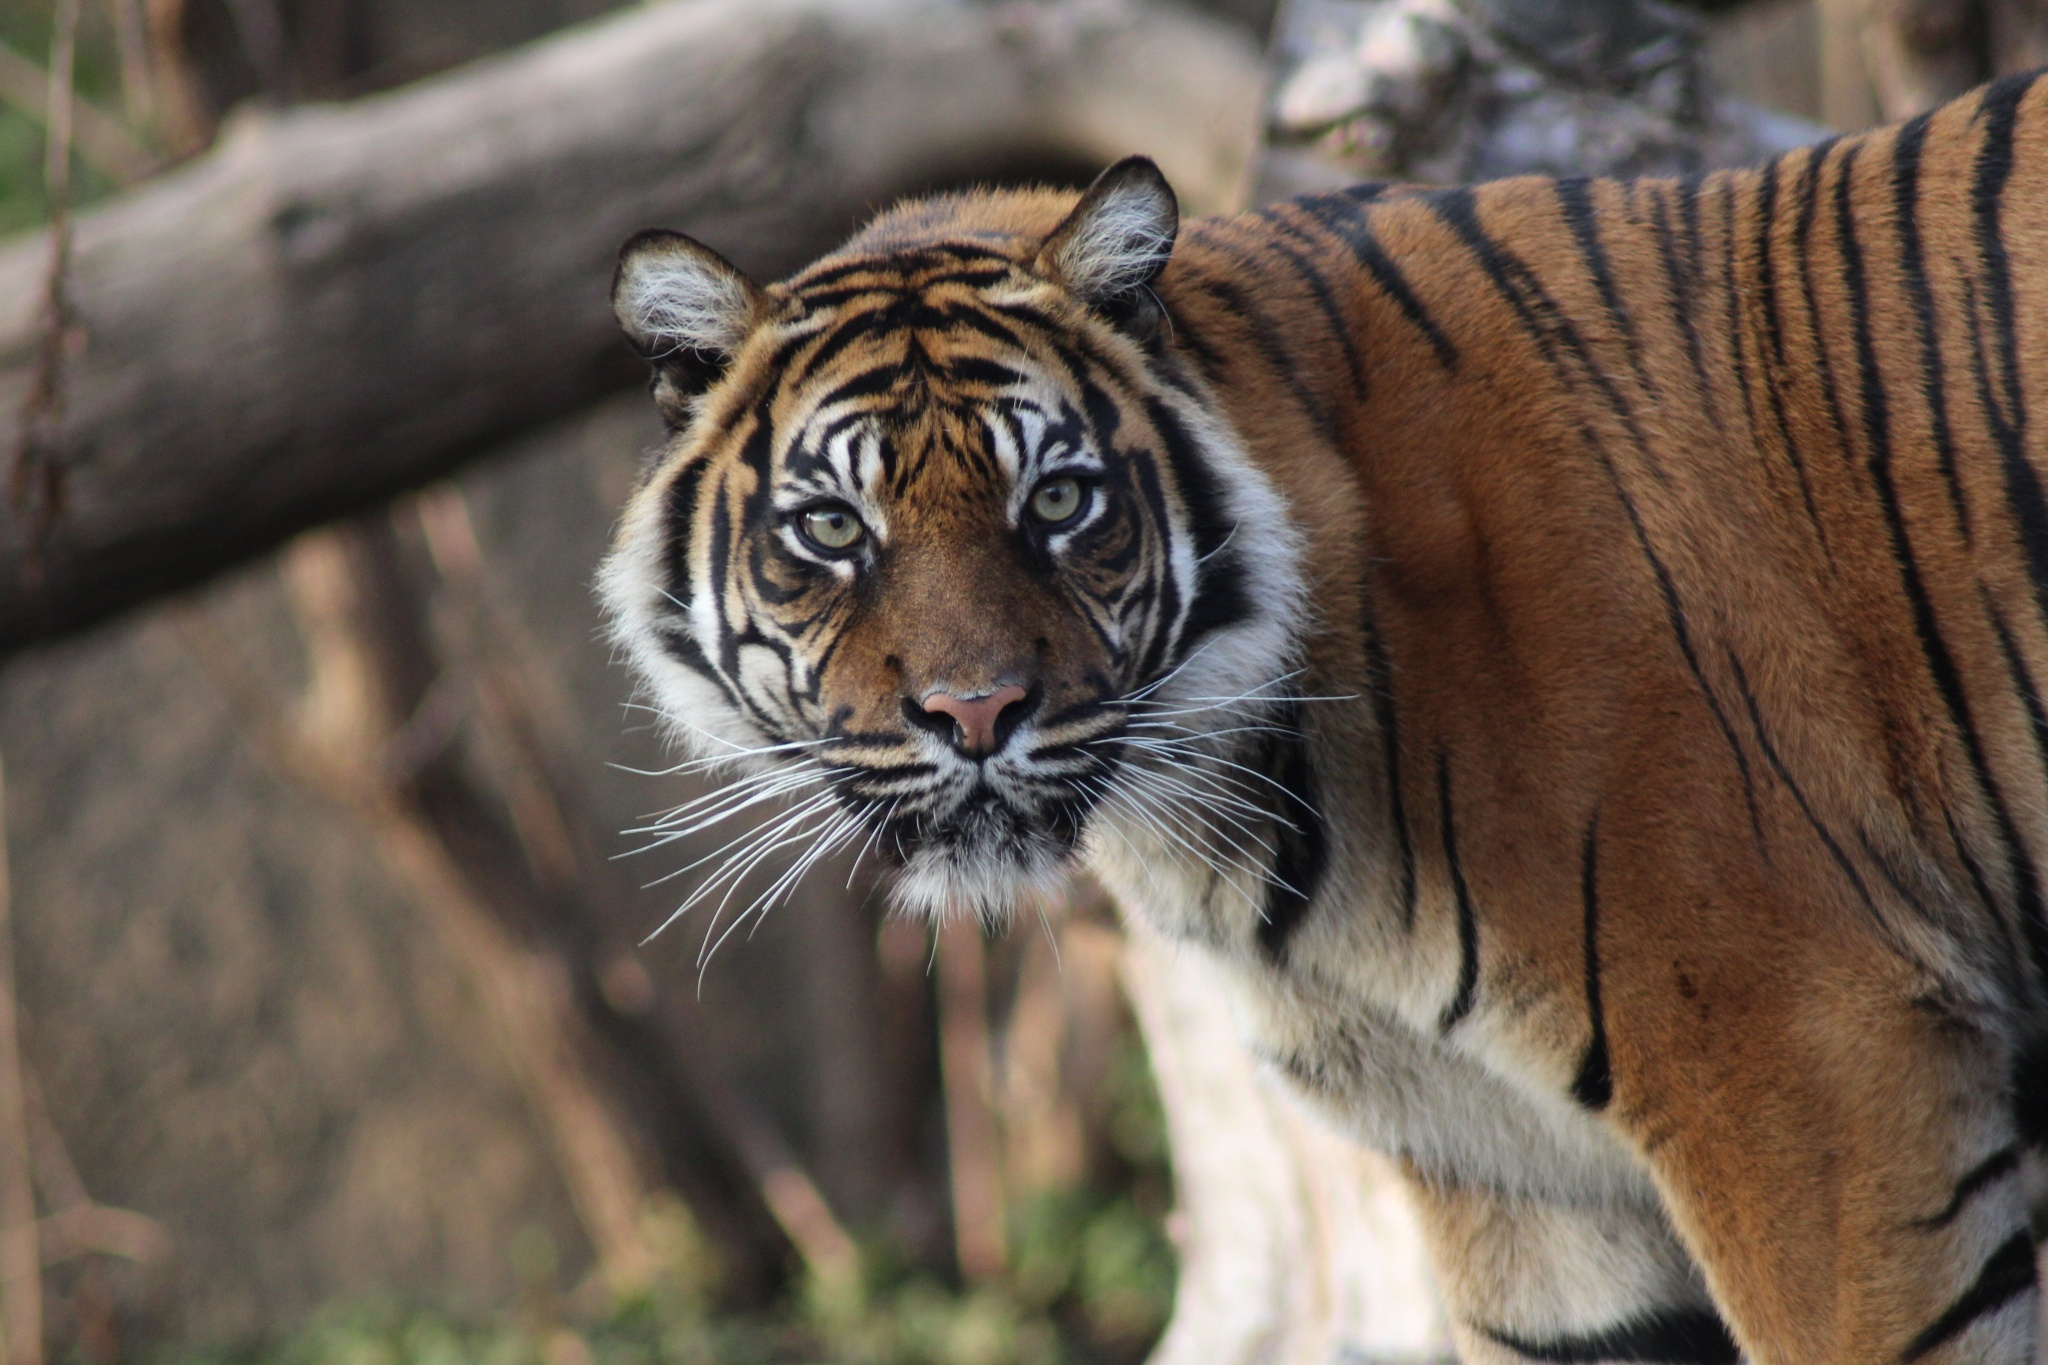tiger: (612, 204, 2024, 1202)
